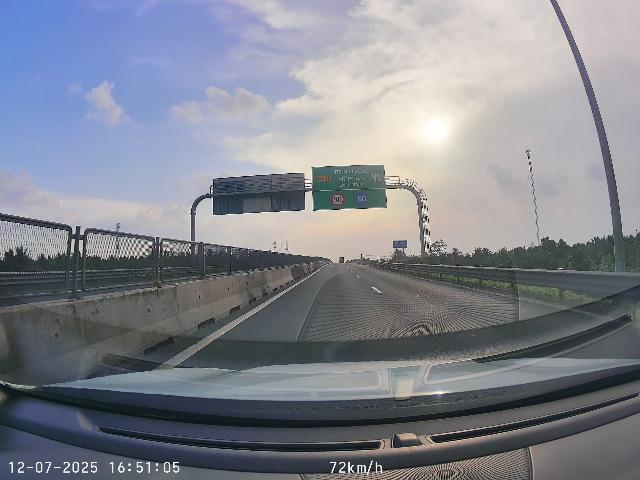127-toc-do-toi-da-90: (331, 192, 345, 206)
306-toc-do-toi-thieu-60: (355, 192, 369, 206)
437-bat-dau-duong-cao-toc: (372, 170, 382, 183)
